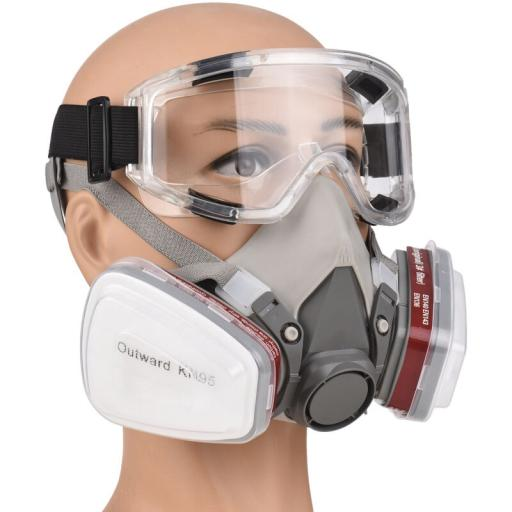mask: (57, 191, 512, 454)
